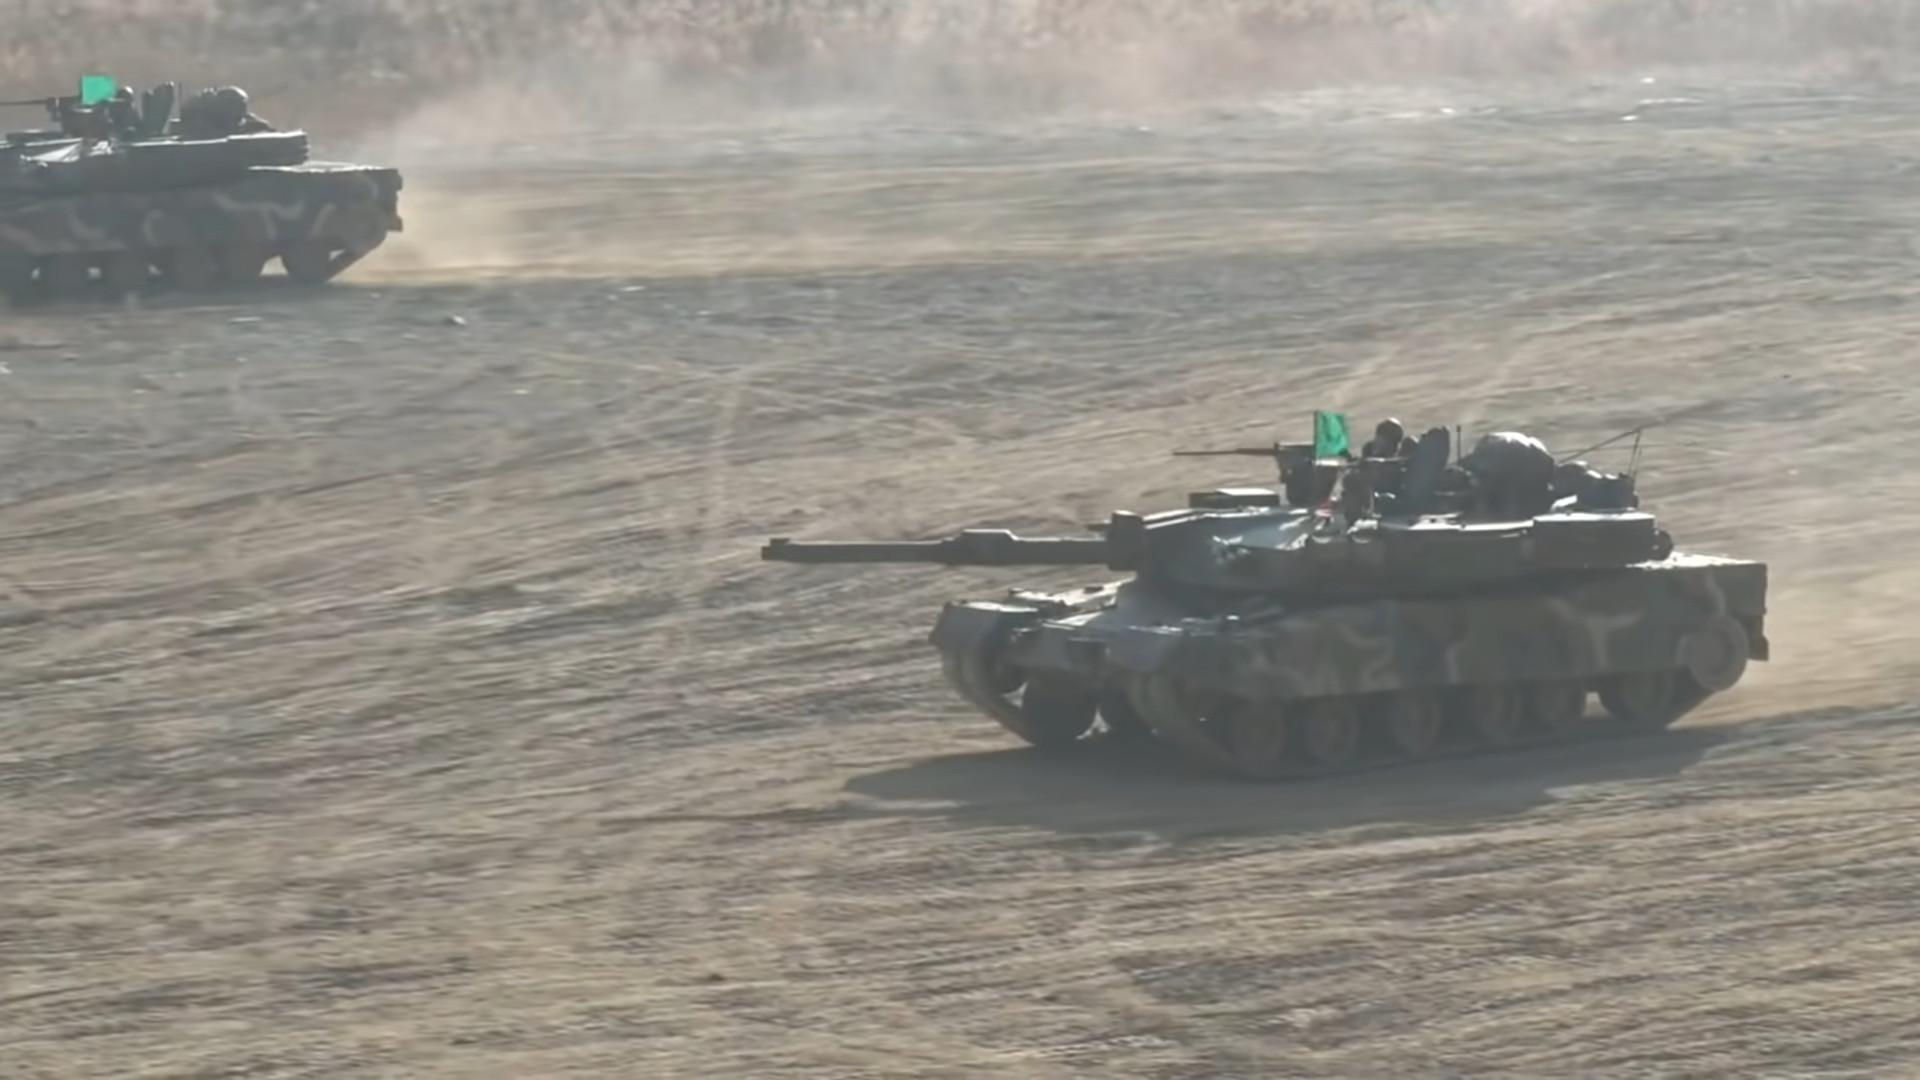tank: (757, 421, 1770, 777), (0, 80, 402, 309)
